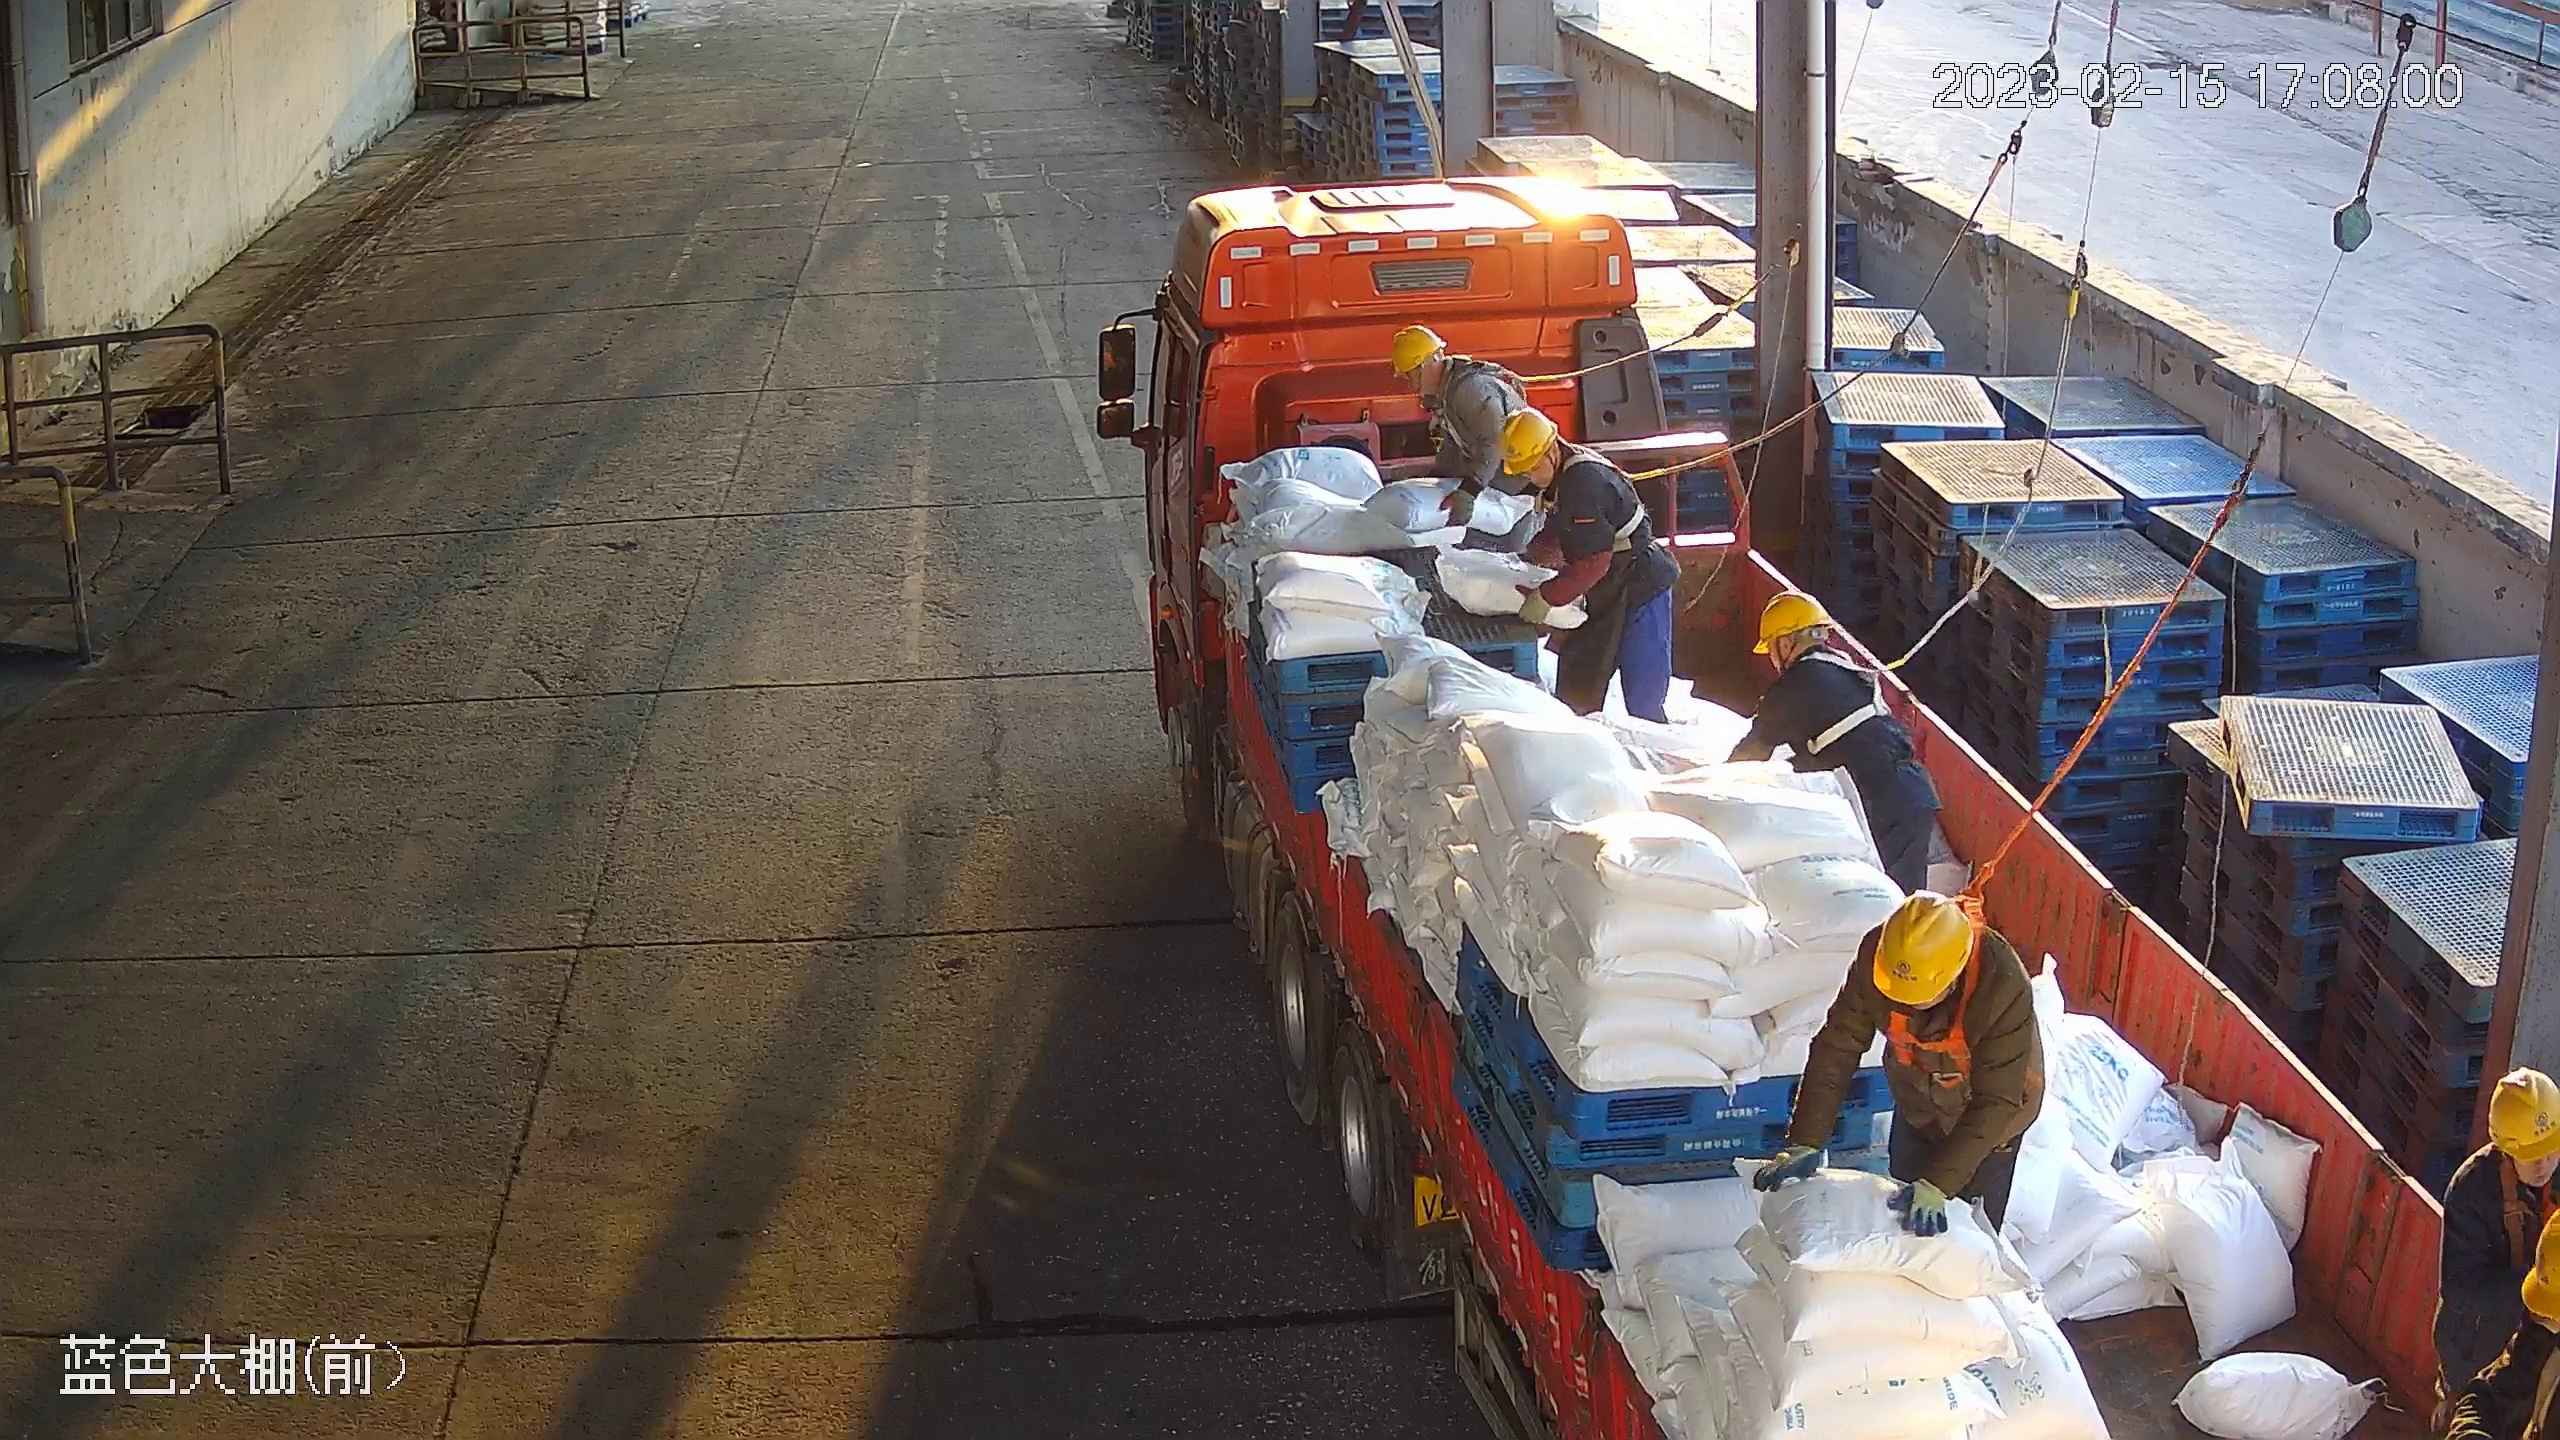belt: (1879, 868, 2004, 1090), (1809, 642, 1909, 759), (1564, 433, 1664, 545), (1428, 389, 1474, 449)
head: (1836, 895, 2026, 1045), (2448, 1068, 2560, 1254), (1736, 594, 1883, 723), (1499, 404, 1610, 525), (1390, 327, 1502, 435)
helmet: (1869, 890, 1974, 1009), (2492, 1070, 2560, 1161), (1754, 590, 1829, 656), (1498, 409, 1560, 473), (1386, 323, 1445, 375)
people: (1750, 888, 2047, 1240), (1735, 589, 1948, 902), (1502, 404, 1679, 720), (1386, 325, 1542, 552)
truck: (1097, 171, 2560, 1440)
